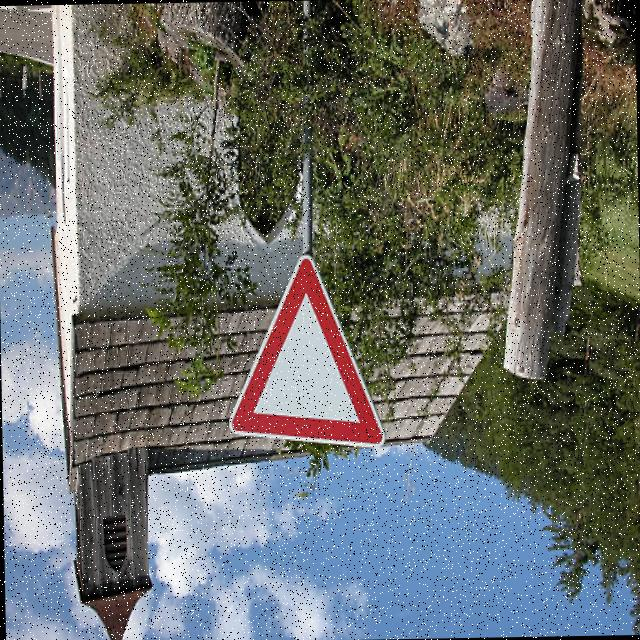give_way: (210, 251, 400, 464)
